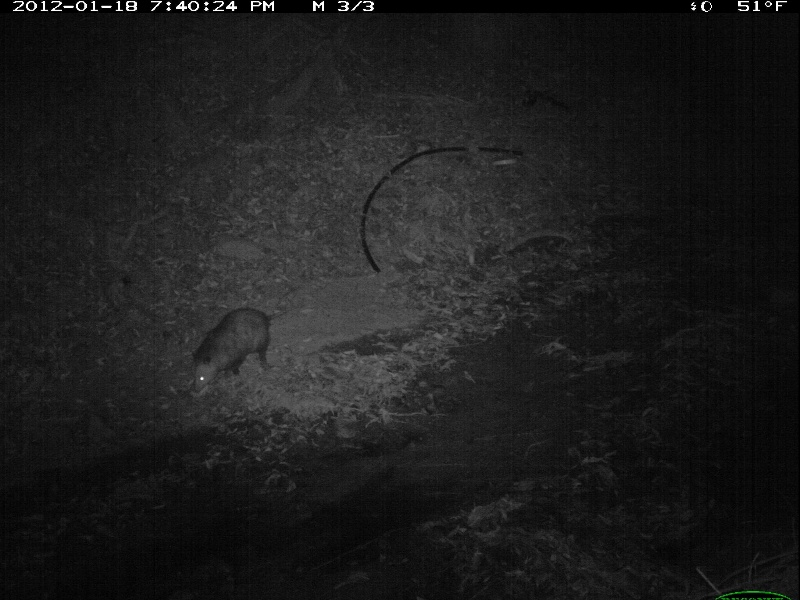opossum: (190, 300, 299, 392)
